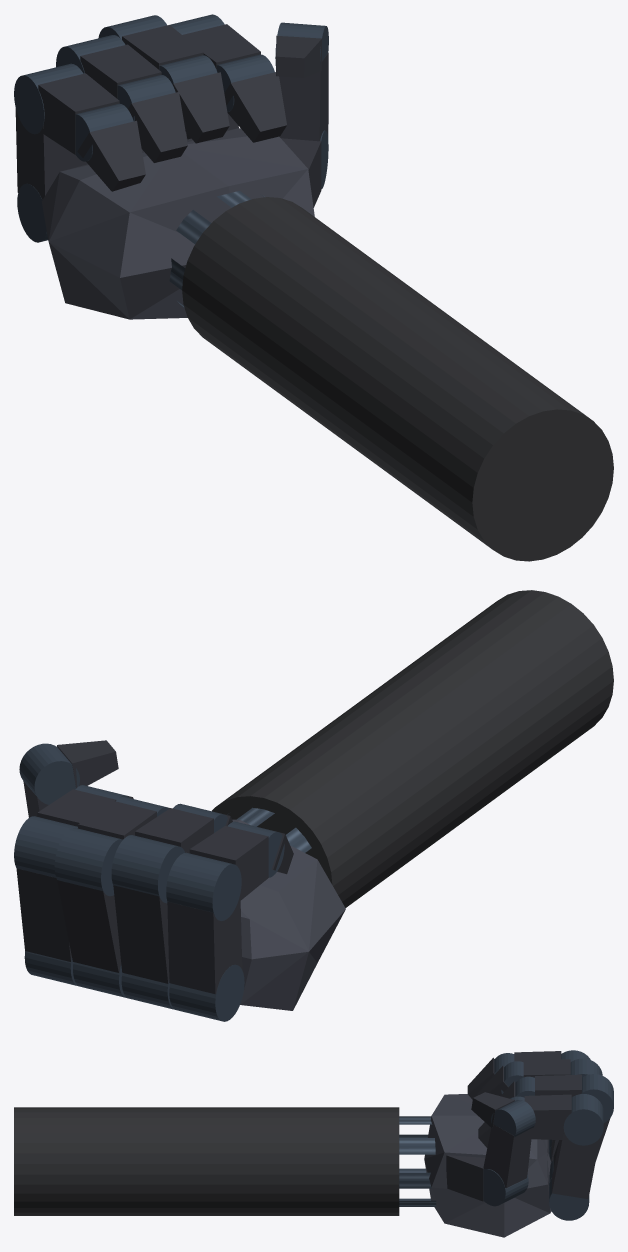
The model's file is bossAtackArm.obj.
3 views of the same model, one above another, from view 1: azimuth 30°, elevation 25°; view 2: azimuth 150°, elevation 25°; view 3: azimuth 270°, elevation 25° (orthographic). The views are drawn at different scales.
Visible parts, largest first — view 1: 円柱.010; view 2: 円柱.010; view 3: 円柱.010.
Boxes of the visible parts, <box> form: 円柱.010: <box>14,14,613,561</box>; 円柱.010: <box>14,590,613,1021</box>; 円柱.010: <box>14,1050,613,1237</box>.
Size of the model in its own units: 5.58 by 4.16 by 15.07.
Materials: 5 (5 with a texture image).
